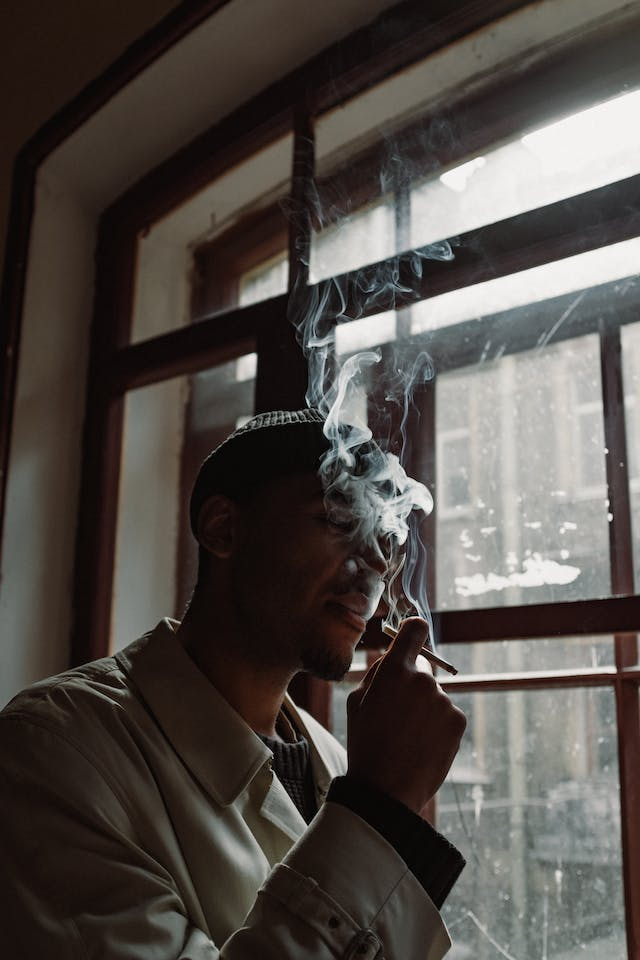Cigarette: (381, 623, 461, 678)
